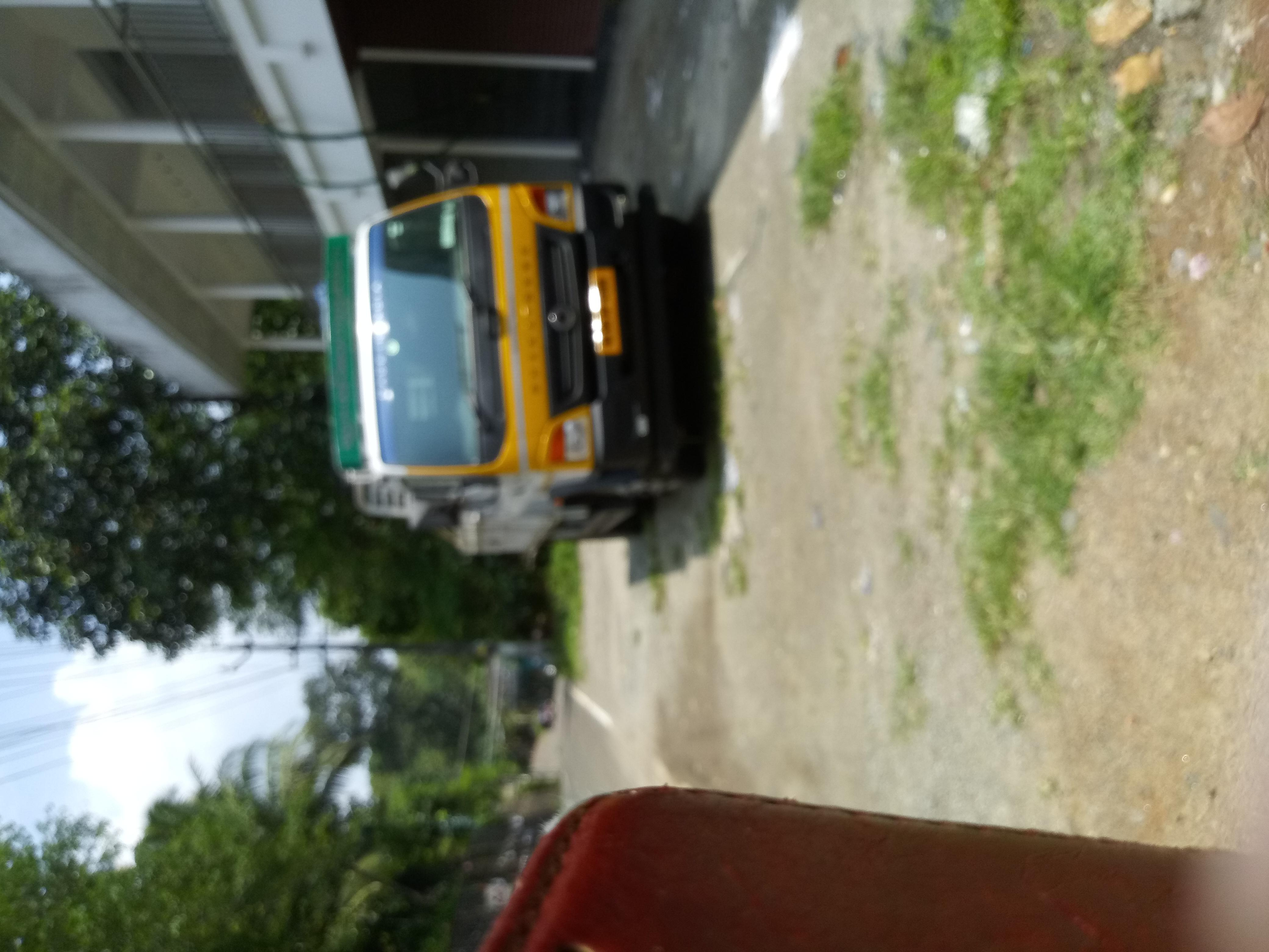License-Plate: (798, 442, 910, 467)
